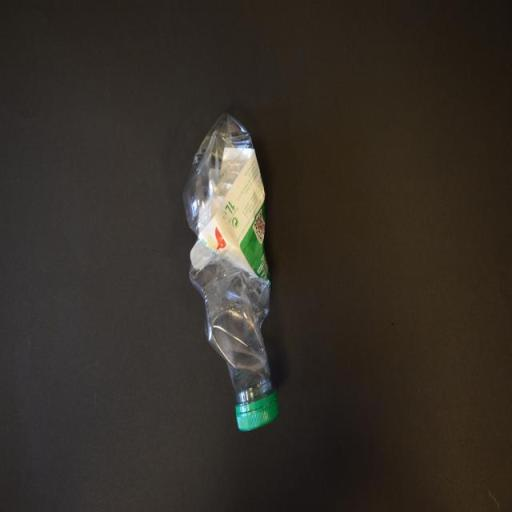plastic: (181, 115, 281, 433)
